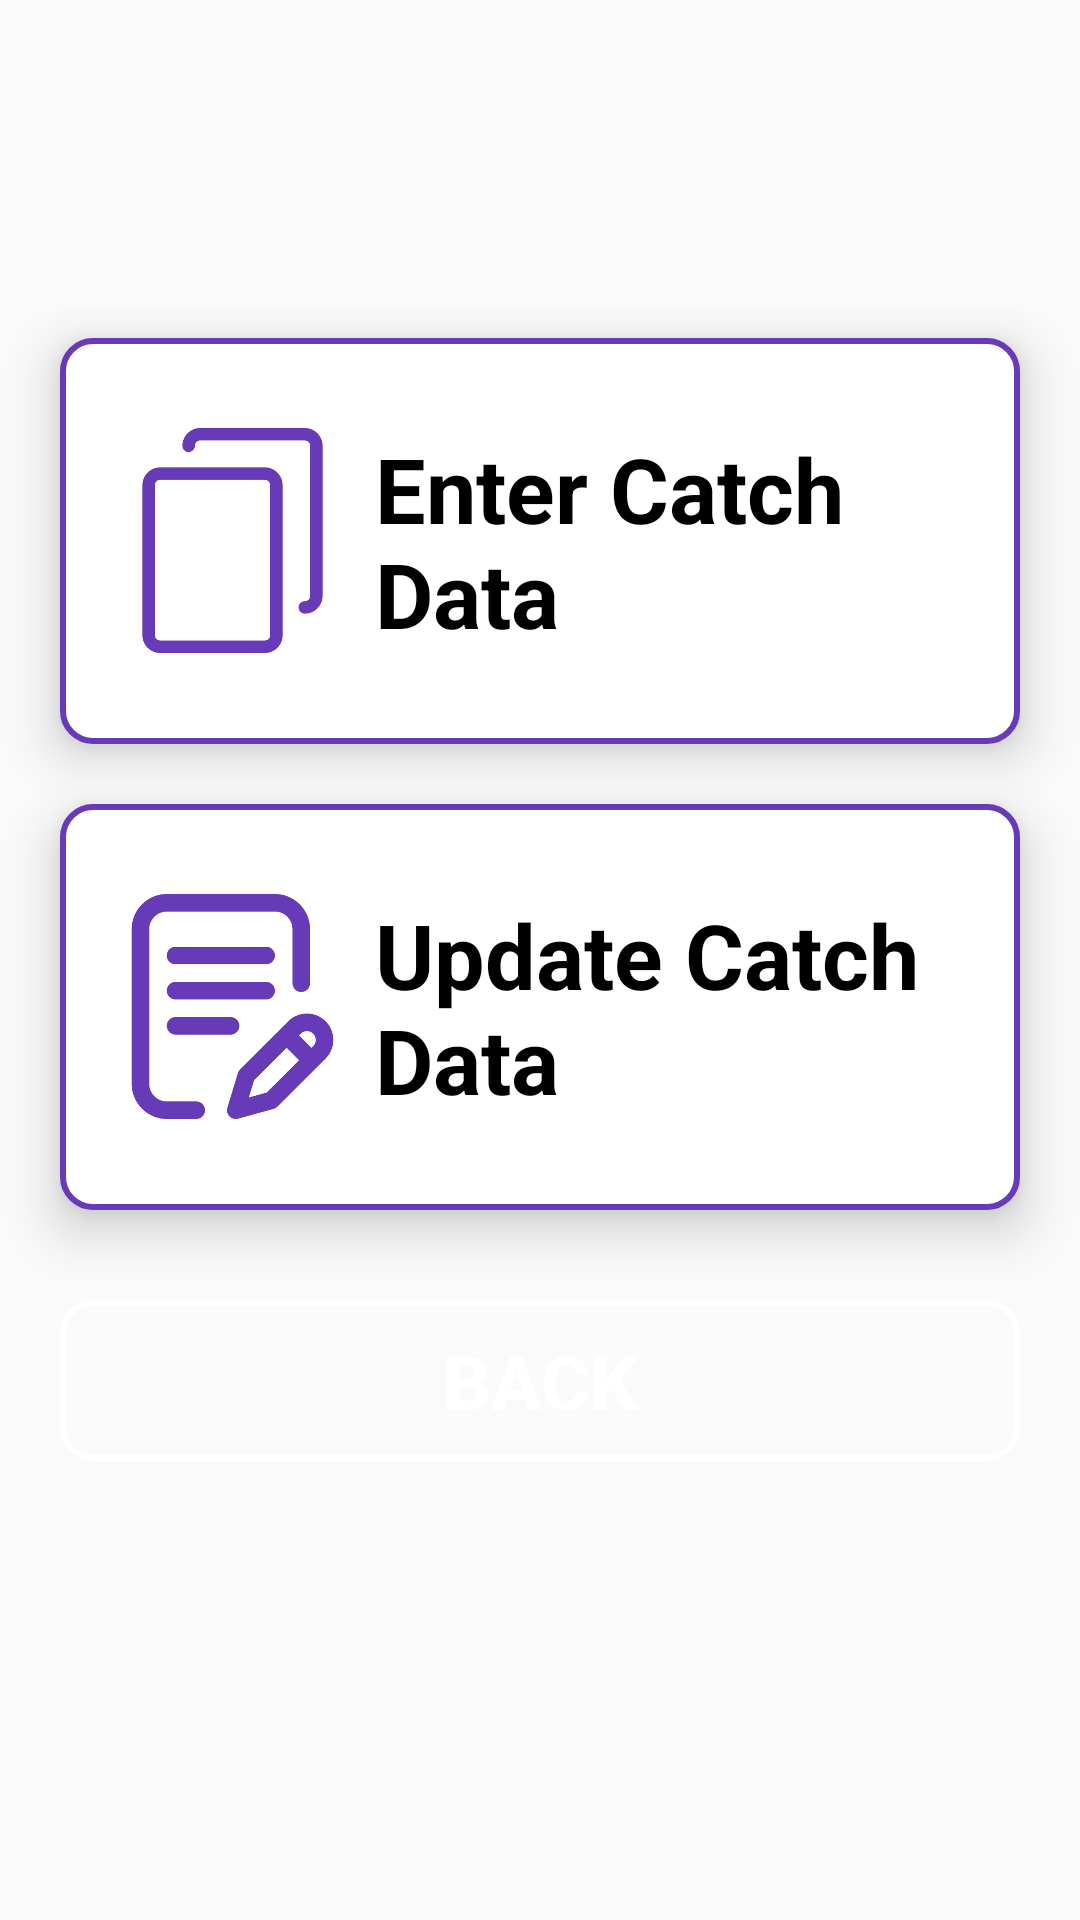

Point at icon controls on the screen. Image size 1080*1920, points as (x,y).
edit: (232,1006)
